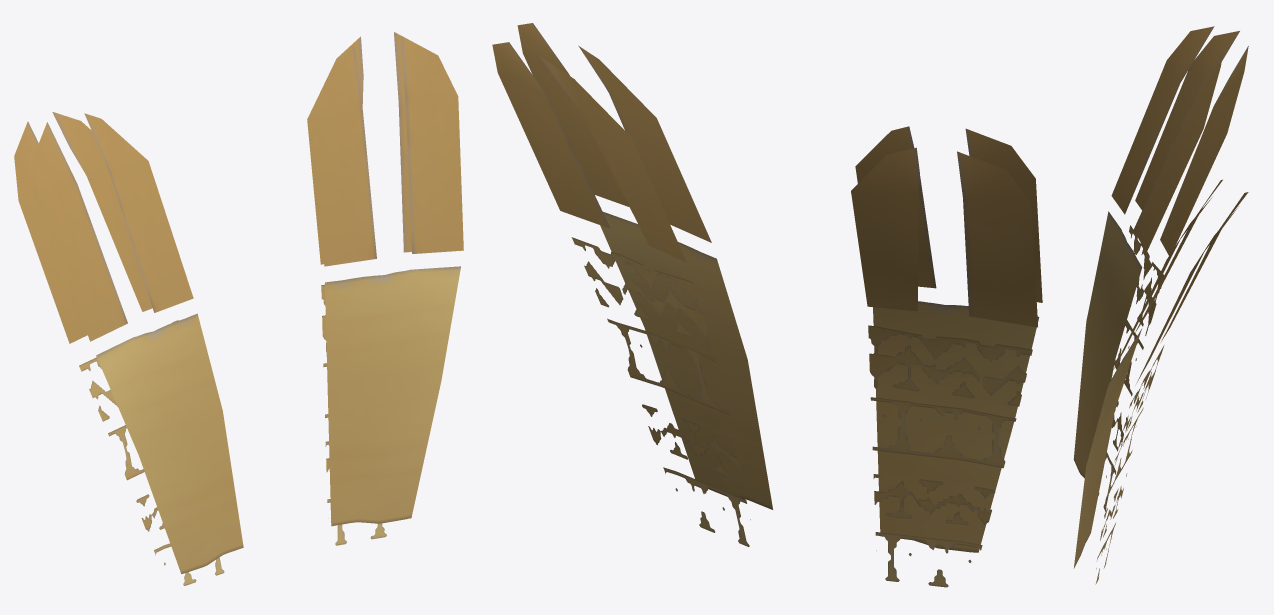
Rendered from yayoi_isw_e_armor_back.dae.
3 renders of one model, left to right at view 1: azimuth 30°, elevation 25°; view 2: azimuth 150°, elevation 25°; view 3: azimuth 270°, elevation 25°, orthographic. The views are drawn at different scales.
Parts seen in each view (by area): view 1: m_armor_dress_short_med_sleeves.001; view 2: m_armor_dress_short_med_sleeves.001; view 3: m_armor_dress_short_med_sleeves.001.
Boxes of the visible parts, <box> form: m_armor_dress_short_med_sleeves.001: <box>14,32,463,585</box>; m_armor_dress_short_med_sleeves.001: <box>492,23,1042,587</box>; m_armor_dress_short_med_sleeves.001: <box>1073,26,1248,584</box>.
Size of the model in its own units: 1.1 by 0.4232 by 1.12.
Materials: 1 (1 with a texture image).
